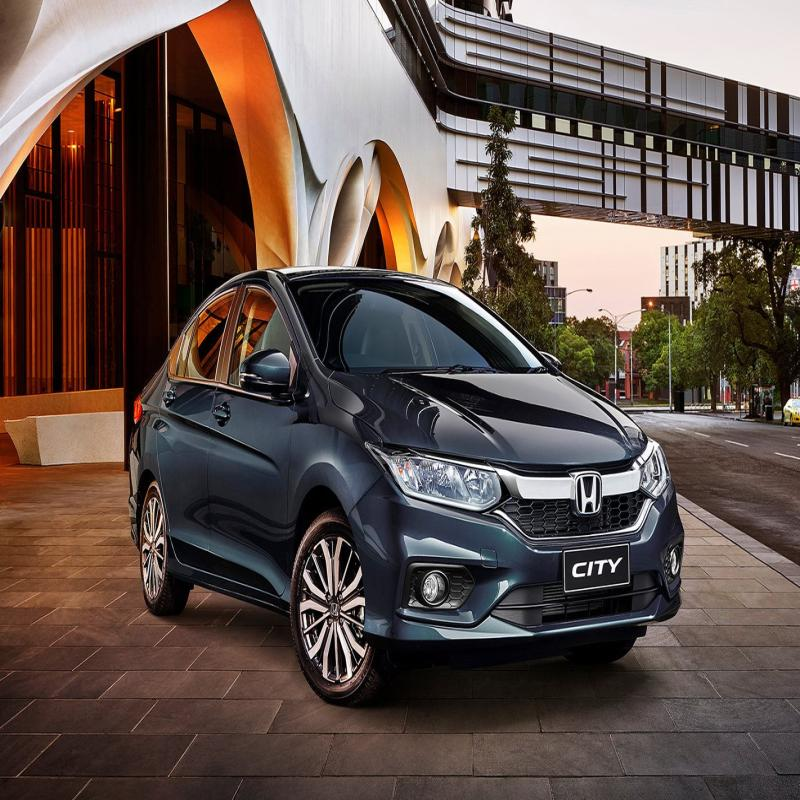car: (109, 241, 698, 705)
